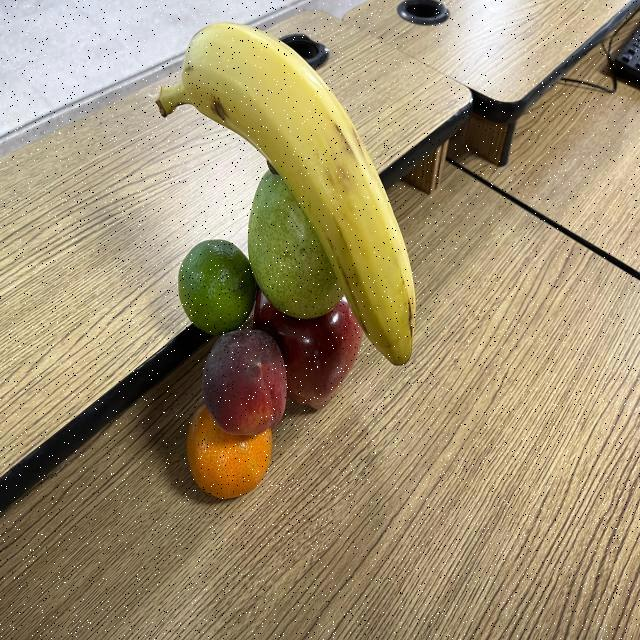Apel Gala: (198, 324, 288, 441)
Apel Granny Smith: (176, 237, 256, 338)
Apel Merah: (183, 398, 275, 504)
Lemon: (245, 156, 348, 322)
Persik: (152, 18, 418, 370)
Pisang: (257, 284, 367, 414)
